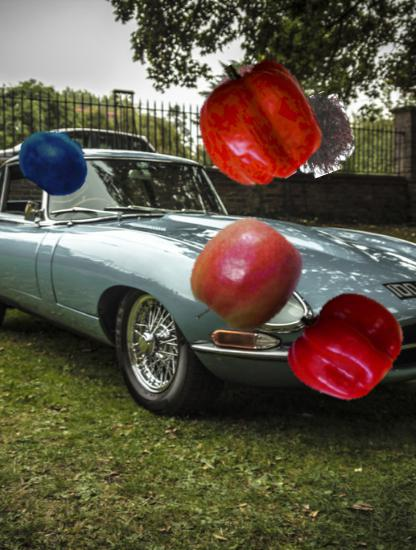Apple: (182, 218, 304, 340)
Huckleberry: (18, 125, 92, 199)
Pepper: (193, 60, 320, 187), (287, 288, 403, 404)
Rambutan: (280, 95, 360, 175)
Strawberry: (205, 51, 290, 136)
